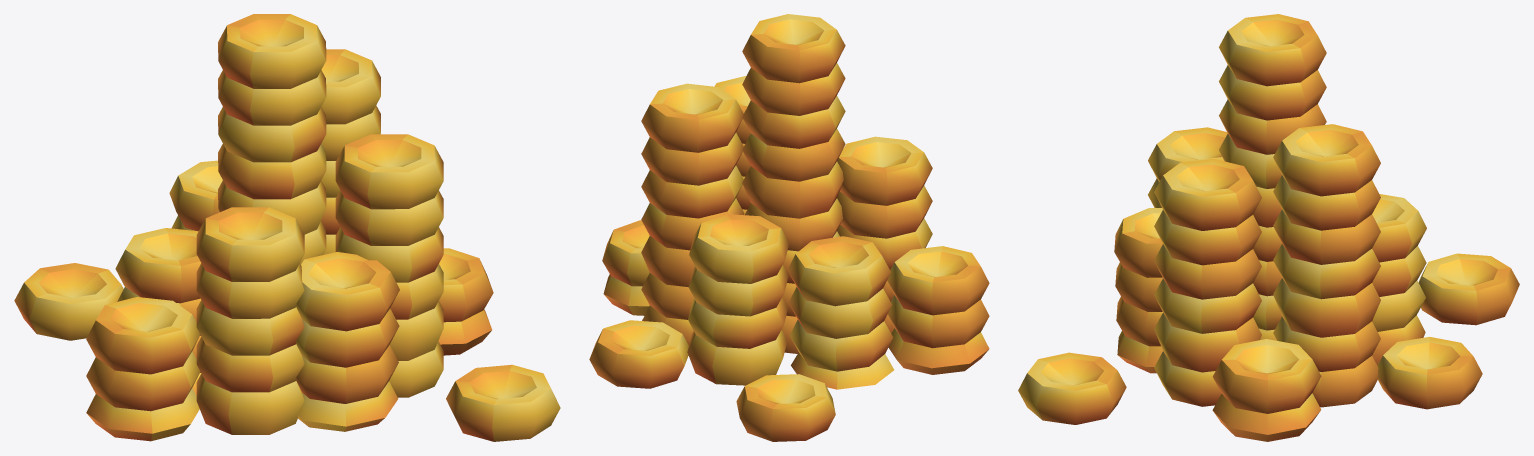
File: coin_stack_large.glb
3 views of the same model, side by side, from view 1: azimuth 30°, elevation 25°; view 2: azimuth 150°, elevation 25°; view 3: azimuth 270°, elevation 25° (orthographic). The views are drawn at different scales.
Visible parts, largest first — view 1: coin_stack_large; view 2: coin_stack_large; view 3: coin_stack_large.
Boxes of the visible parts, left/top/right/bottom form: coin_stack_large: left=14, top=14, right=560, bottom=441; coin_stack_large: left=589, top=14, right=989, bottom=441; coin_stack_large: left=1018, top=14, right=1519, bottom=441.
Bounding box in the file's own units: 1.44 × 1.16 × 1.66.
Materials: 1 (1 with a texture image).
